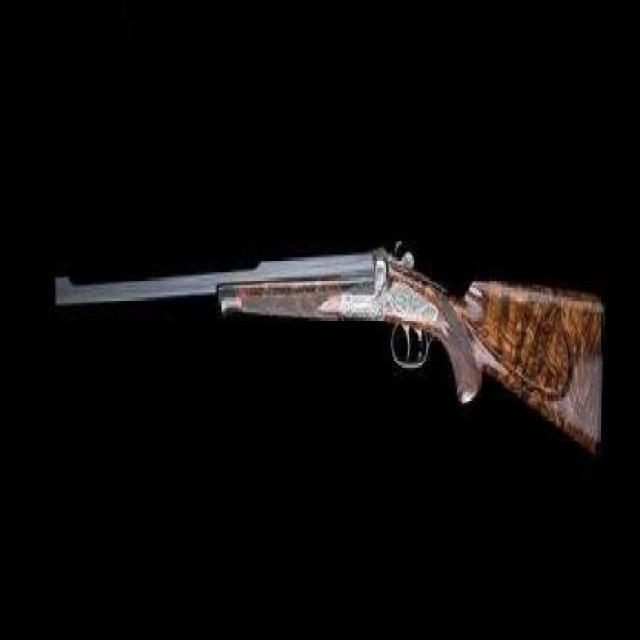weapon: (54, 260, 612, 450)
